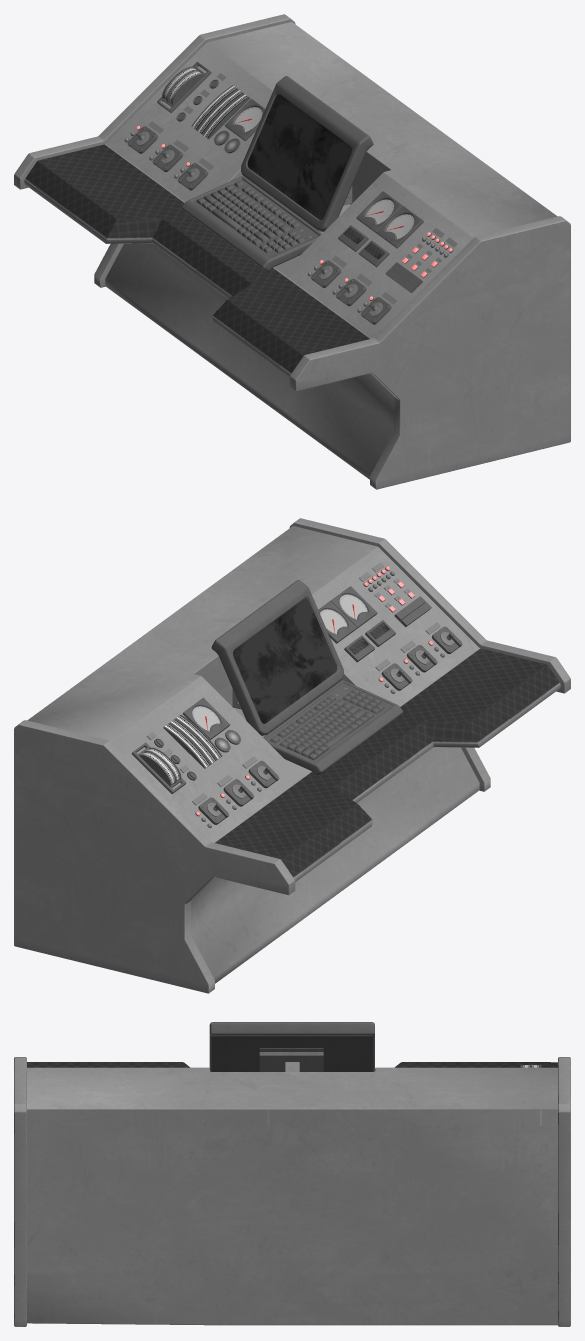
File: BG_CM_BD_Com_002.fbx
3 renders of one model, top to bottom at view 1: azimuth 30°, elevation 25°; view 2: azimuth 150°, elevation 25°; view 3: azimuth 270°, elevation 25°, orthographic.
Parts seen in each view (by area): view 1: com_002_low; view 2: com_002_low; view 3: com_002_low.
Part boxes in pixels (bbox=[...]): com_002_low: bbox=[14, 14, 570, 489]; com_002_low: bbox=[14, 518, 570, 993]; com_002_low: bbox=[14, 1022, 570, 1326].
Bounding box in the file's own units: 161 × 143 × 283.
1 material, 1 textured.
